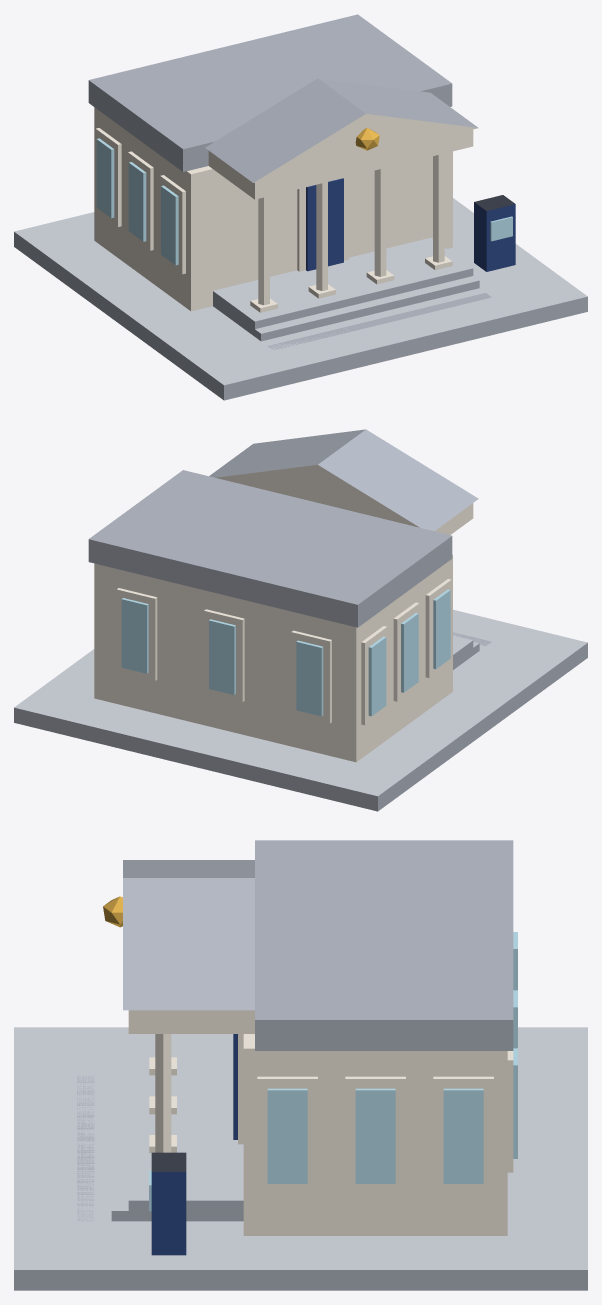
File: shop_bank.glb
3 renders of one model, top to bottom at view 1: azimuth 30°, elevation 25°; view 2: azimuth 150°, elevation 25°; view 3: azimuth 270°, elevation 25°, orthographic. The views are drawn at different scales.
Parts seen in each view (by area): view 1: shop_bank; view 2: shop_bank; view 3: shop_bank.
Boxes of the visible parts, box(x1,y1,x2,y2) form: shop_bank: box(14, 14, 587, 400); shop_bank: box(14, 429, 587, 811); shop_bank: box(14, 840, 587, 1290).
Bounding box in the file's own units: 1 × 0.56 × 1.
